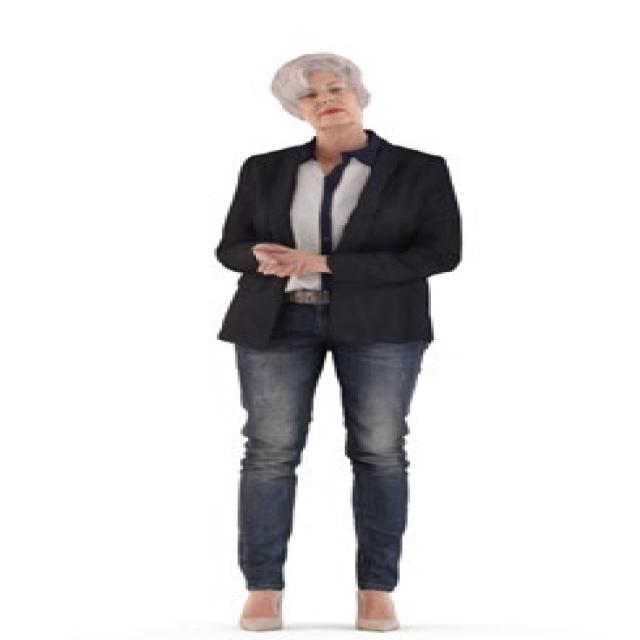standing: (205, 51, 466, 636)
